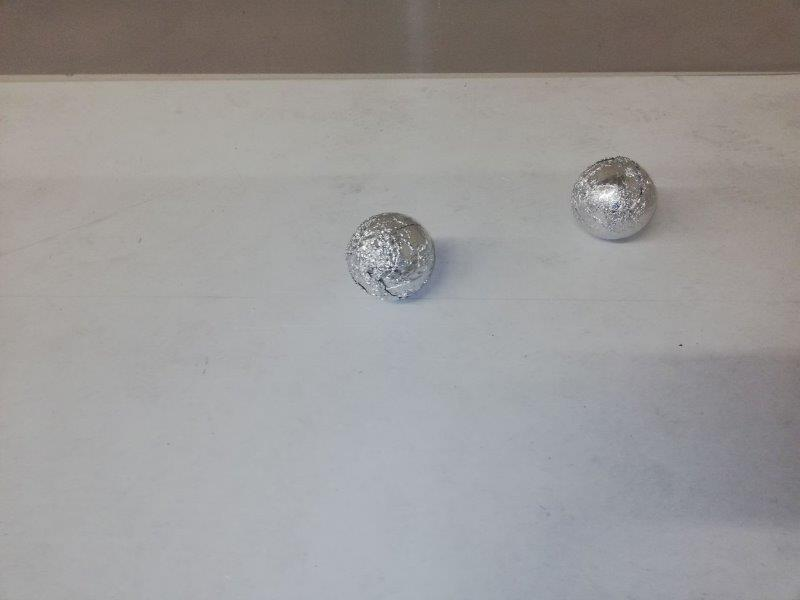bianca: (568, 155, 659, 242), (349, 214, 435, 301)
